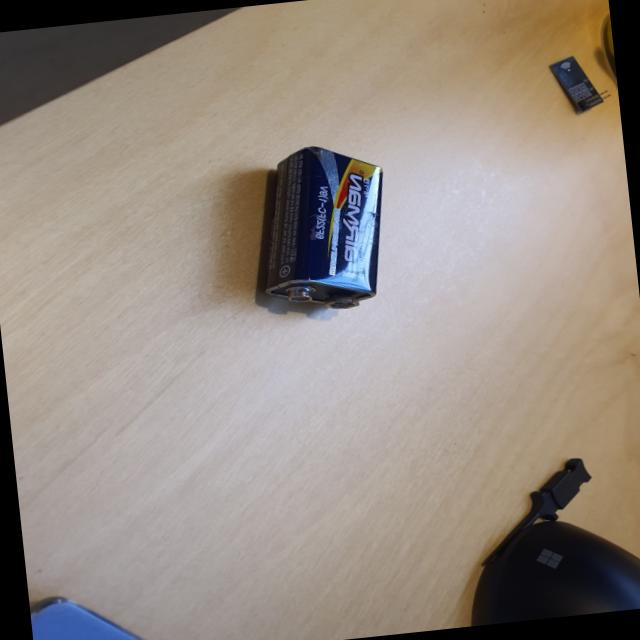battery-etc-etc: (228, 134, 406, 330)
